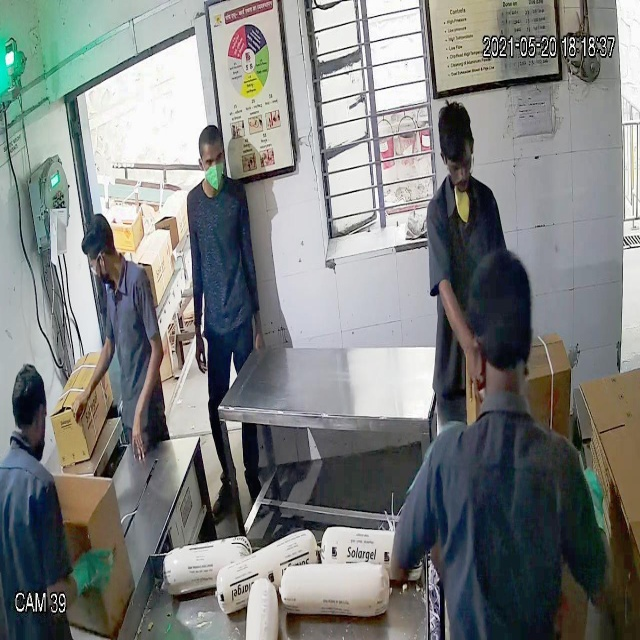Gafas: (437, 149, 477, 178)
Sin_gafas: (198, 152, 226, 172)
